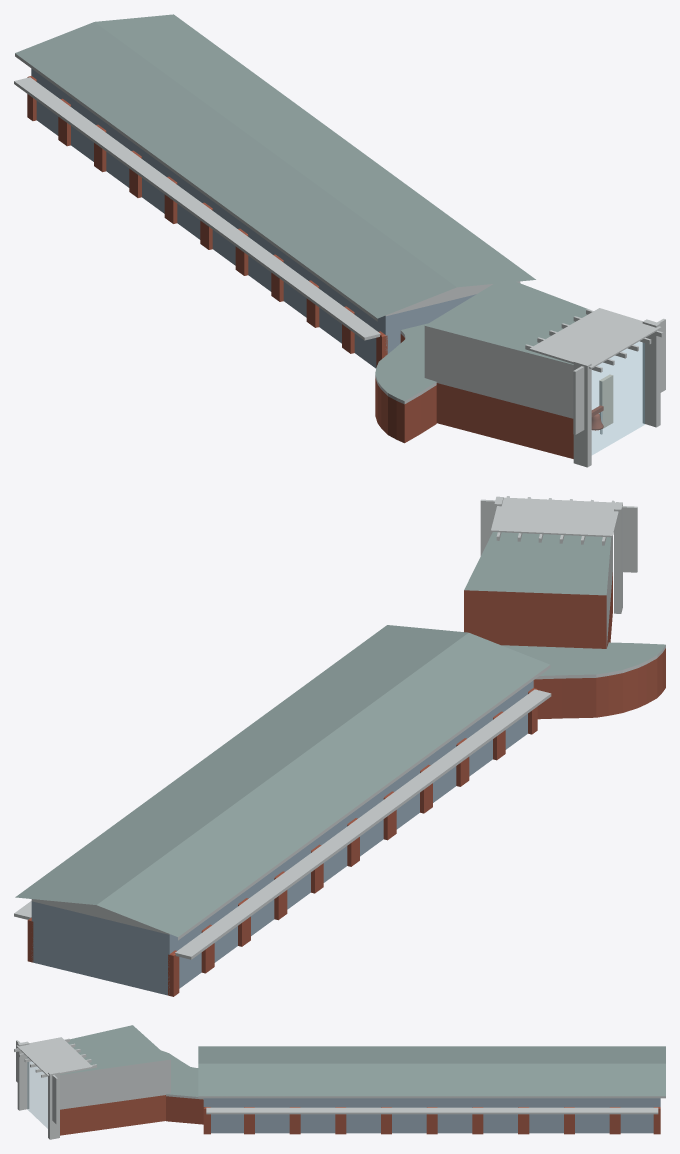
The model's file is phl-liberty-bell-center.glb.
3 renders of one model, top to bottom at view 1: azimuth 30°, elevation 25°; view 2: azimuth 150°, elevation 25°; view 3: azimuth 270°, elevation 25°, orthographic. The views are drawn at different scales.
Visible parts, largest first — view 1: Liberty Bell Center; view 2: Liberty Bell Center; view 3: Liberty Bell Center.
Part boxes in pixels (x1=…): Liberty Bell Center: x1=14, y1=14, x2=665, y2=467; Liberty Bell Center: x1=14, y1=496, x2=665, y2=996; Liberty Bell Center: x1=14, y1=1025, x2=665, y2=1139.
Size of the model in its own units: 25.72 by 11.1 by 100.
